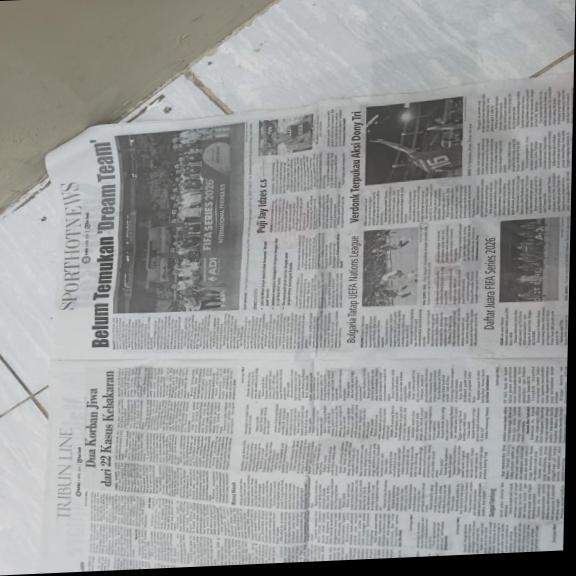Kertas: (31, 336, 556, 573), (259, 89, 567, 359), (43, 112, 321, 356), (43, 128, 121, 333)
